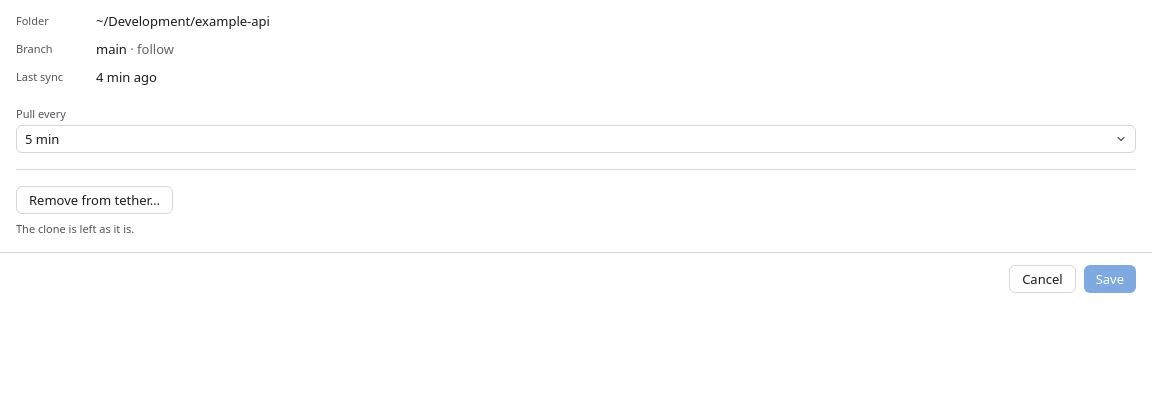
Test: RepoSettings › titles a refused save Not saved
Click the dropdown named "Pull every". click: (42, 139)
box: [16, 125, 1136, 153]
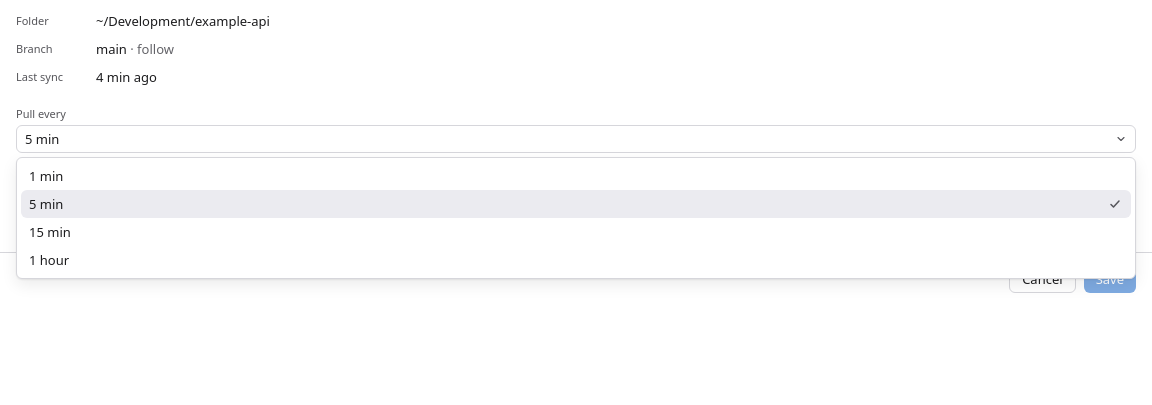
Click the option "1 hour". click: (49, 260)
box: [29, 251, 69, 269]
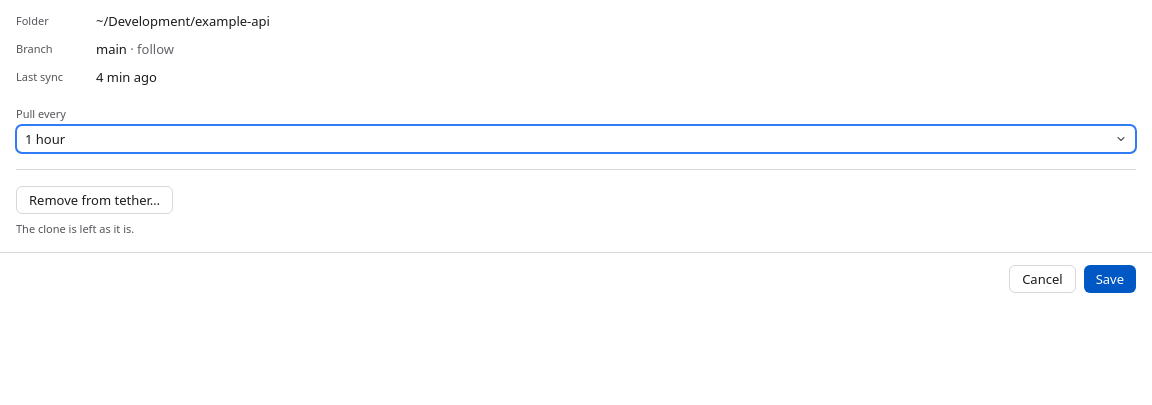
Click the button "Save". click: (1110, 279)
box: [1084, 265, 1136, 293]
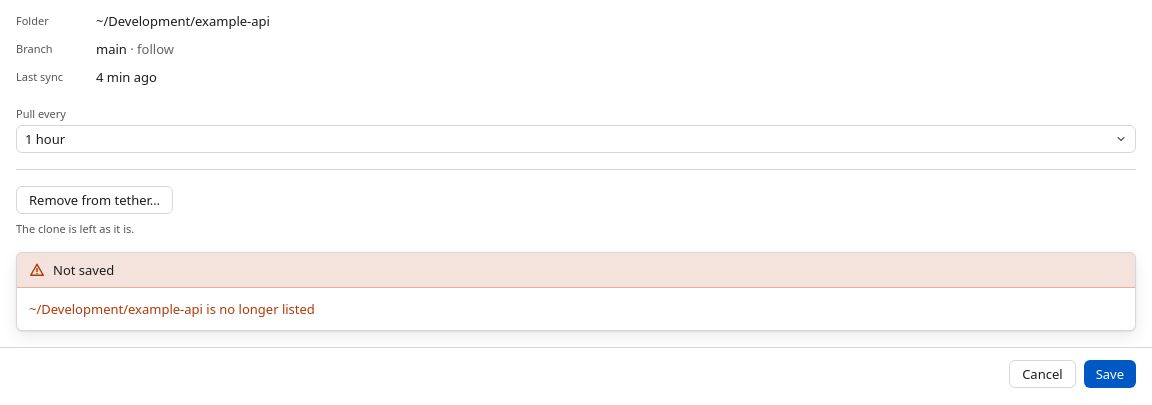
Now the message shows "Not saved", box [53, 261, 114, 279]
Now the message shows "is no longer listed", box [29, 300, 315, 318]
